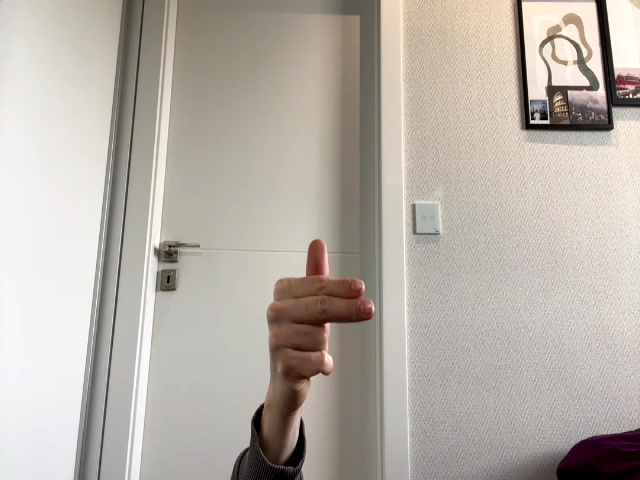N: (268, 239, 374, 386)
